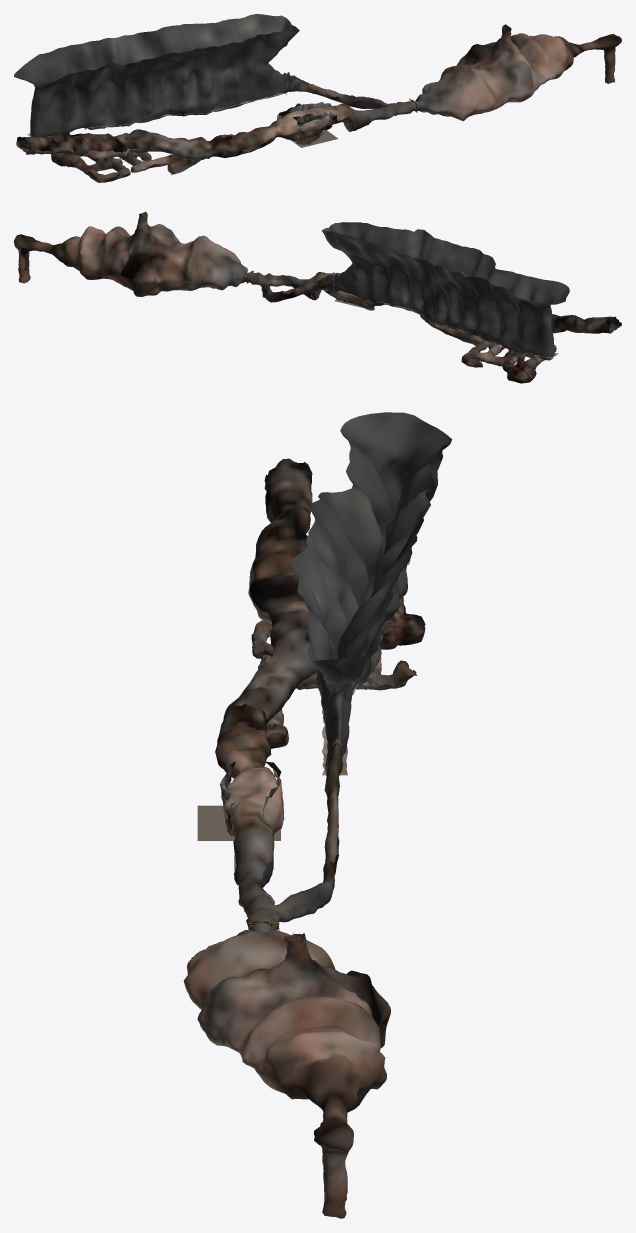
File: Cave.gltf
3 renders of one model, top to bottom at view 1: azimuth 30°, elevation 25°; view 2: azimuth 150°, elevation 25°; view 3: azimuth 270°, elevation 25°, orthographic. The views are drawn at different scales.
Visible parts, largest first — view 1: CaveBaseSection3, CaveBaseSection2, CaveBaseSection1, CaveBaseSection4, CaveBaseSection1Walls, Water, CaveBaseSection3Floor; view 2: CaveBaseSection3, CaveBaseSection2, CaveBaseSection4, CaveBaseSection1; view 3: CaveBaseSection2, CaveBaseSection3, CaveBaseSection1, CaveBaseSection4, Water.
Boxes of the visible parts, bbox=[...] form: CaveBaseSection3: bbox=[14, 14, 299, 137]; CaveBaseSection2: bbox=[284, 24, 621, 130]; CaveBaseSection1: bbox=[16, 103, 355, 159]; CaveBaseSection4: bbox=[51, 133, 233, 182]; CaveBaseSection1Walls: bbox=[277, 102, 336, 144]; Water: bbox=[291, 130, 338, 147]; CaveBaseSection3Floor: bbox=[27, 92, 287, 136]; CaveBaseSection3: bbox=[321, 222, 569, 360]; CaveBaseSection2: bbox=[14, 211, 338, 302]; CaveBaseSection4: bbox=[420, 315, 556, 383]; CaveBaseSection1: bbox=[311, 272, 621, 333]; CaveBaseSection2: bbox=[183, 738, 390, 1218]; CaveBaseSection3: bbox=[289, 412, 452, 775]; CaveBaseSection1: bbox=[215, 458, 318, 870]; CaveBaseSection4: bbox=[251, 595, 425, 748]; Water: bbox=[197, 805, 280, 840].
Size of the model in its own units: 242 by 54.48 by 47.71.
